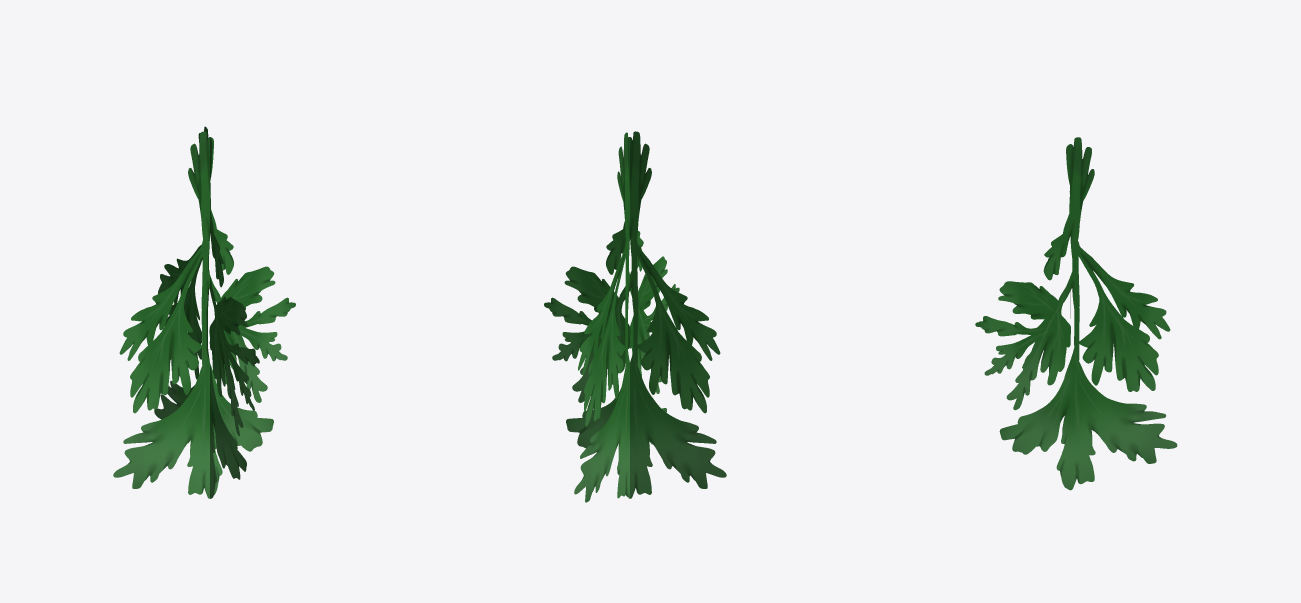
File: Herb_v1.fbx
3 views of the same model, side by side, from view 1: azimuth 30°, elevation 25°; view 2: azimuth 150°, elevation 25°; view 3: azimuth 270°, elevation 25° (orthographic). The views are drawn at different scales.
Parts seen in each view (by area): view 1: Herbs; view 2: Herbs; view 3: Herbs.
Boxes of the visible parts, x1,y1,x2,y2 form: Herbs: (113, 126, 295, 498); Herbs: (544, 131, 726, 502); Herbs: (975, 137, 1177, 490).
Size of the model in its own units: 200 by 200 by 200.
Materials: 1 (1 with a texture image).
